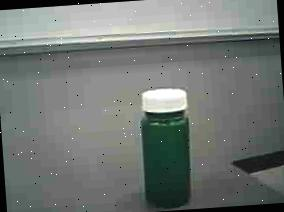Bottle C: (123, 79, 209, 212)
